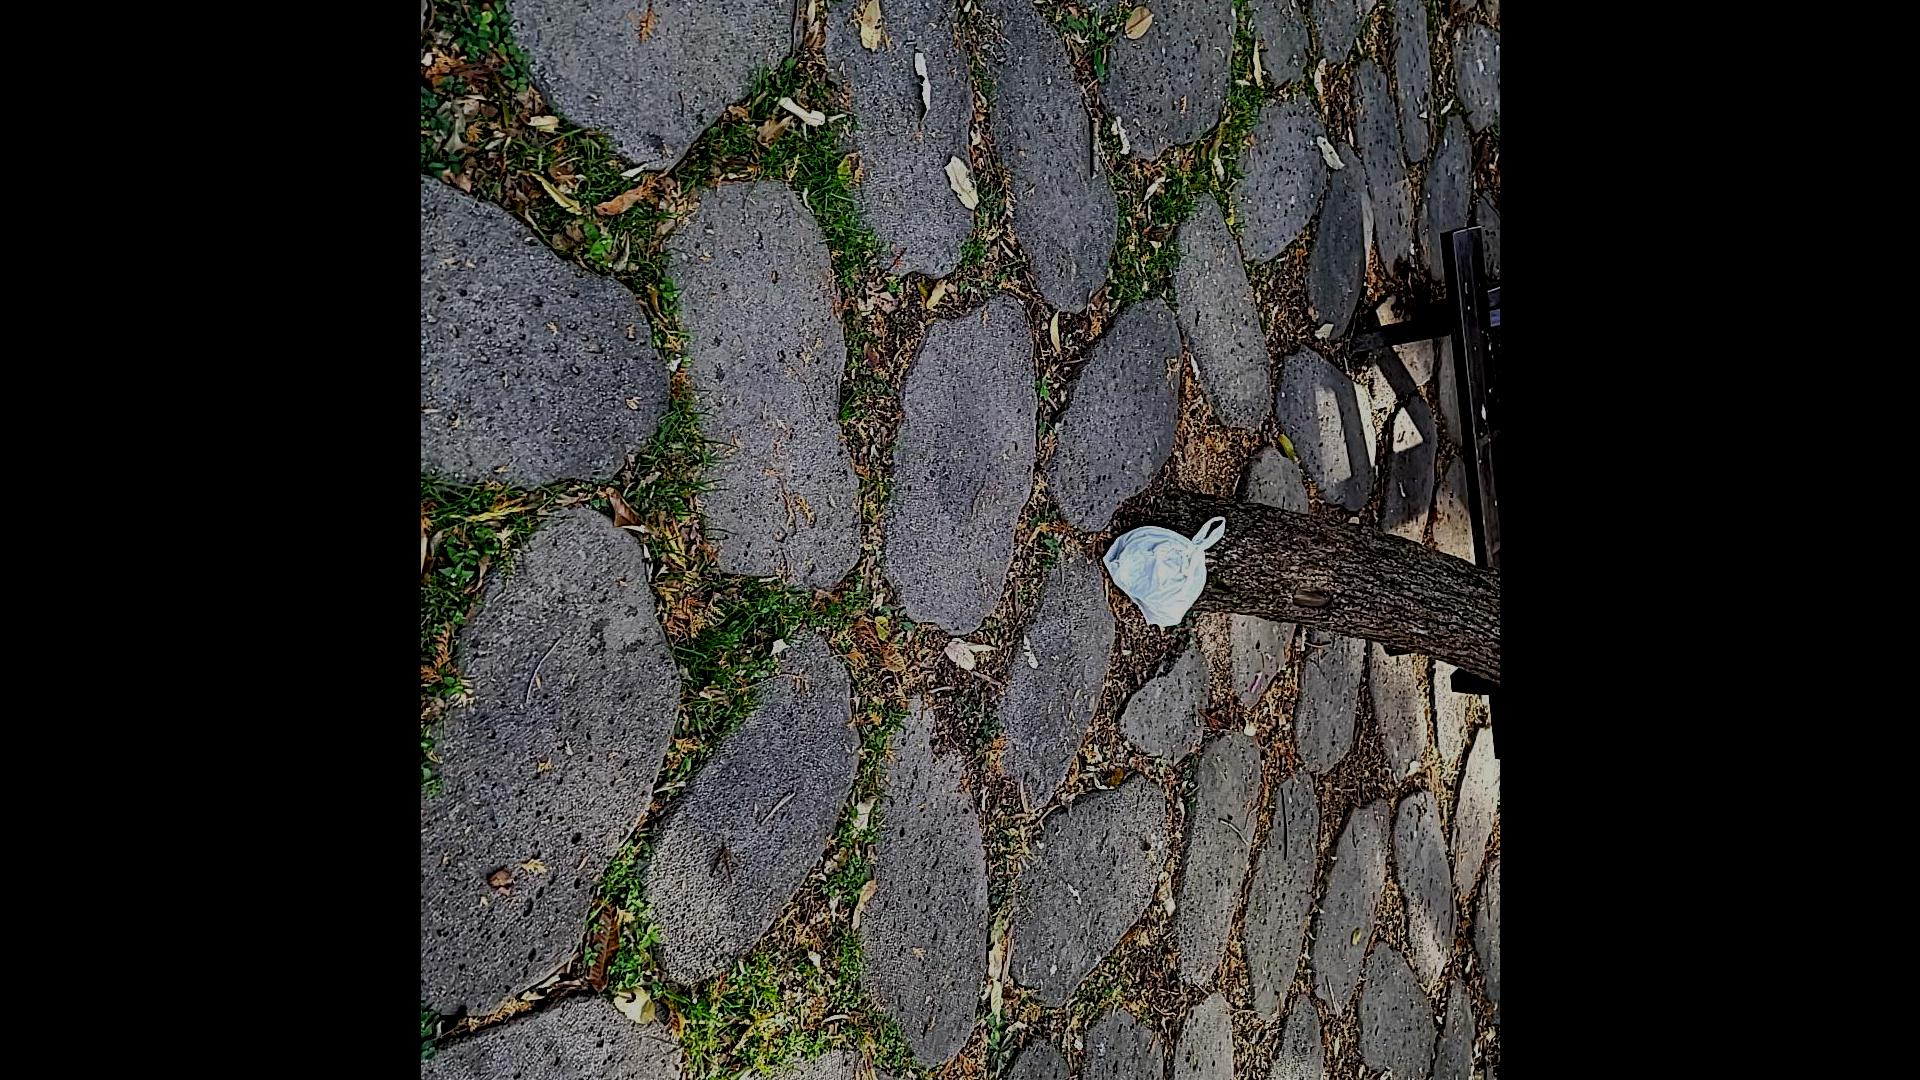white_bag: (1098, 510, 1226, 640)
